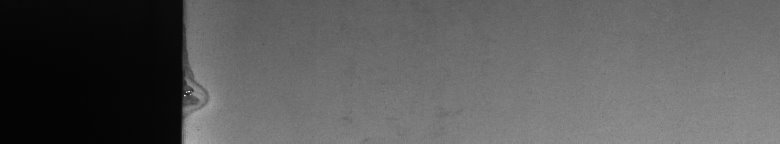hb: (192, 68, 214, 119)
